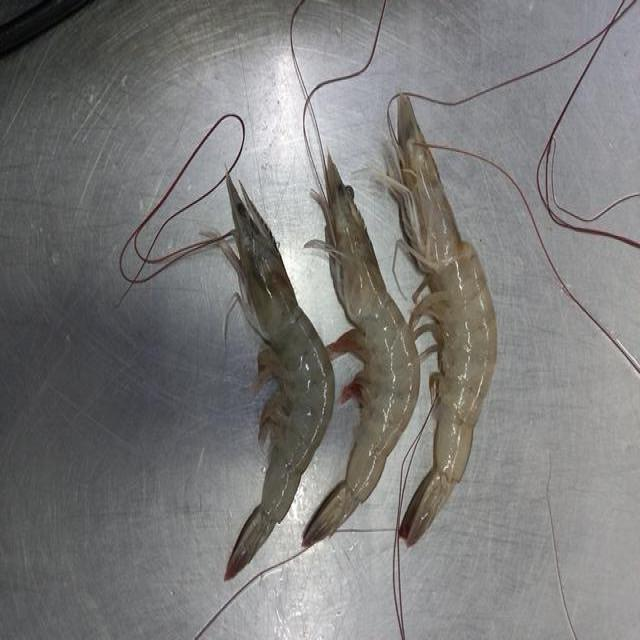shrimp: (385, 95, 496, 545), (302, 155, 420, 546), (221, 175, 335, 579)
